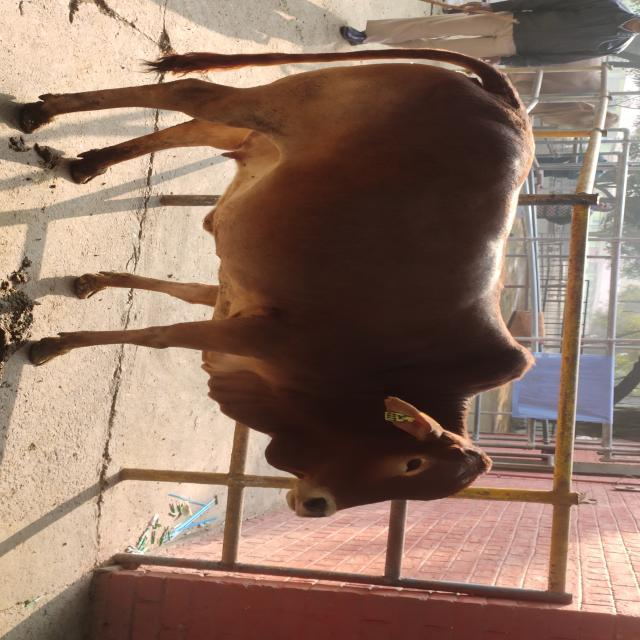cow: (20, 48, 538, 518)
hump: (455, 312, 538, 402)
